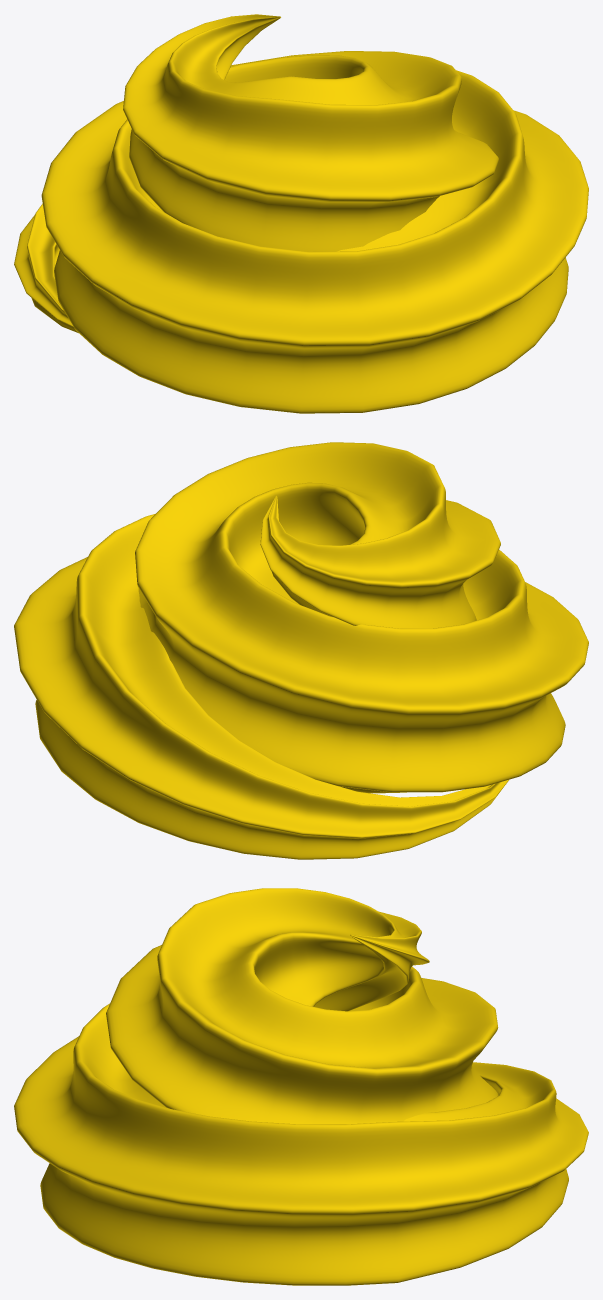
Rendered from Yumusak_Krema_Parcasi.fbx.
3 views of the same model, one above another, from view 1: azimuth 30°, elevation 25°; view 2: azimuth 150°, elevation 25°; view 3: azimuth 270°, elevation 25° (orthographic).
Visible parts, largest first — view 1: P_GLACEZON; view 2: P_GLACEZON; view 3: P_GLACEZON.
Part boxes in pixels (box(x1,y1,x2,y2)): P_GLACEZON: box(14, 14, 588, 413); P_GLACEZON: box(14, 442, 588, 859); P_GLACEZON: box(14, 888, 588, 1285).
Bounding box in the file's own units: 0.5988 × 0.3332 × 0.6169.
